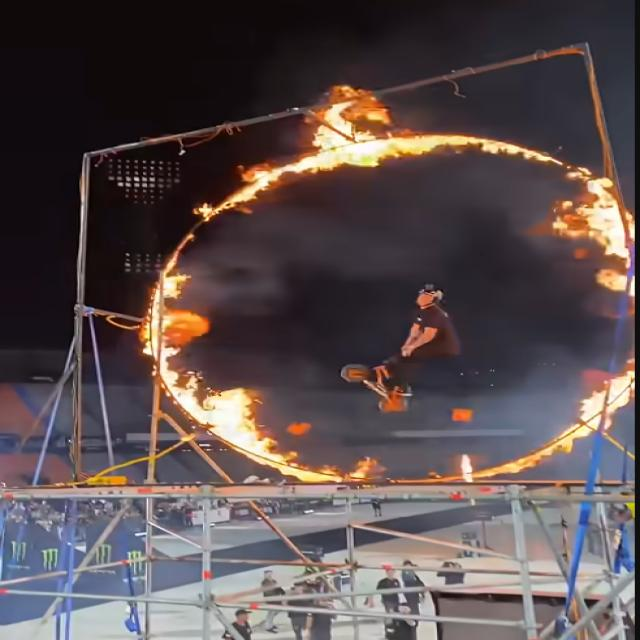fire: (156, 367, 288, 469), (550, 165, 640, 291), (309, 84, 396, 173), (195, 157, 303, 223), (141, 233, 191, 368), (398, 133, 561, 166), (478, 424, 576, 477), (580, 371, 633, 433), (288, 459, 377, 484)
